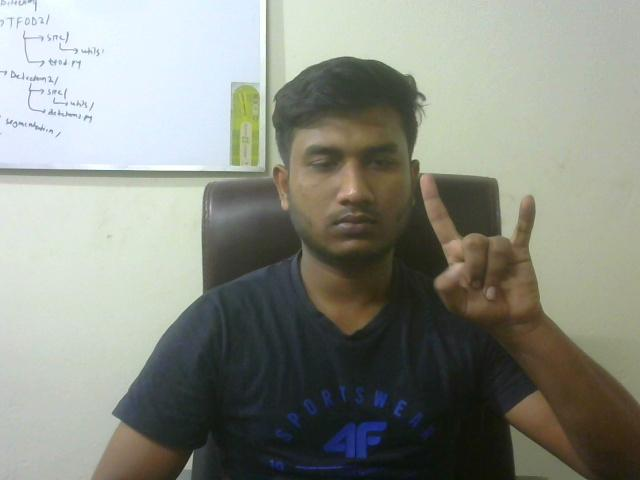IloveYou: (415, 167, 561, 339)
